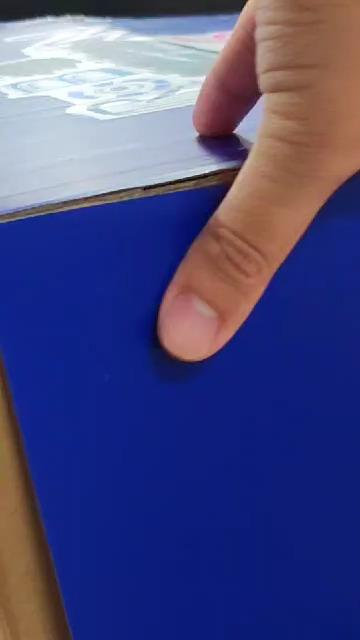B_R1: (211, 349, 360, 640)
